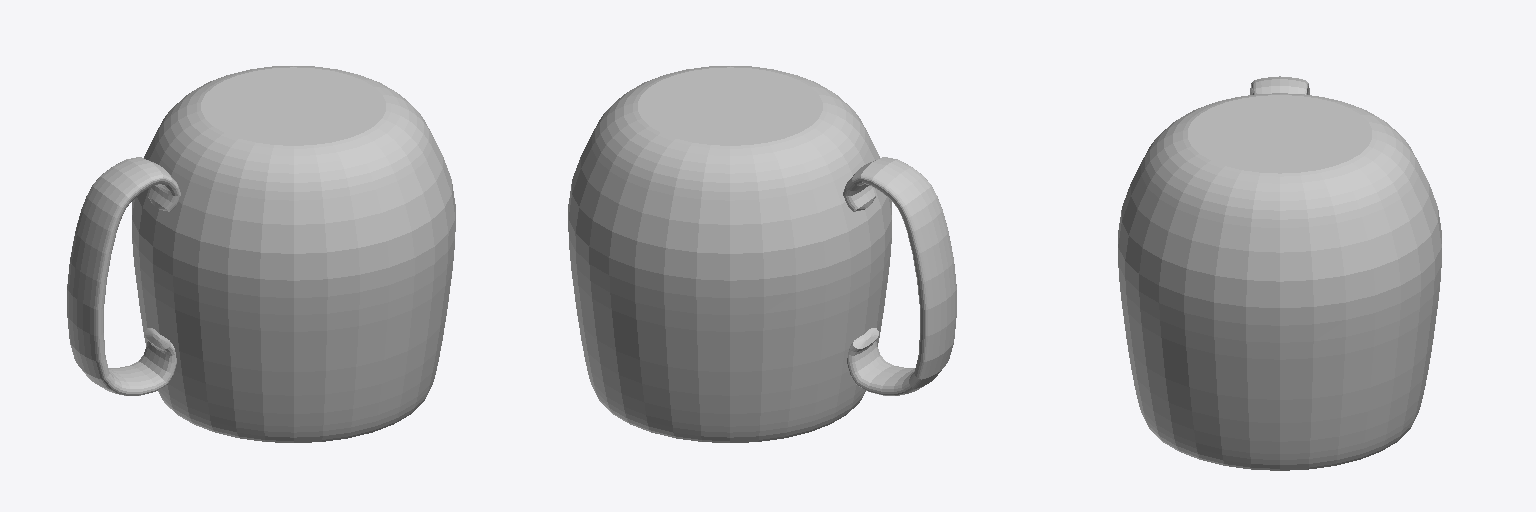
Rendered from mug_small.obj.
The picture shows the model from 3 angles: view 1: azimuth 30°, elevation 25°; view 2: azimuth 150°, elevation 25°; view 3: azimuth 270°, elevation 25°; orthographic projection.
Bounding box in the file's own units: 107 × 80.01 × 83.75.